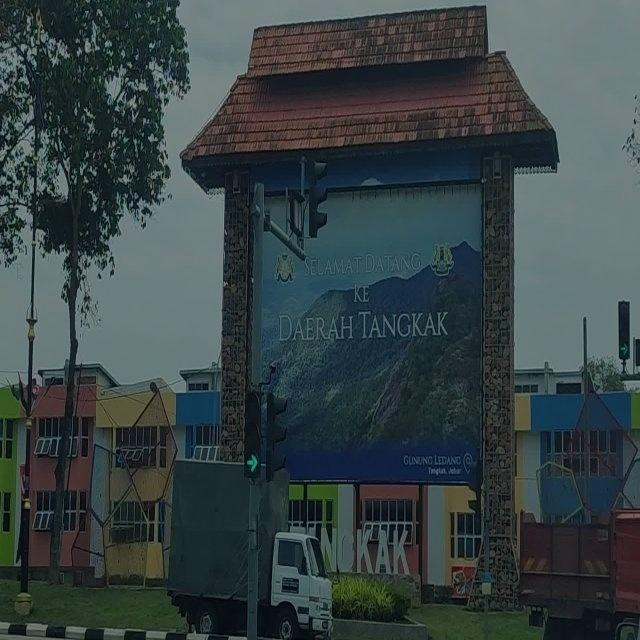Green: (244, 392, 262, 477), (618, 300, 630, 360)
